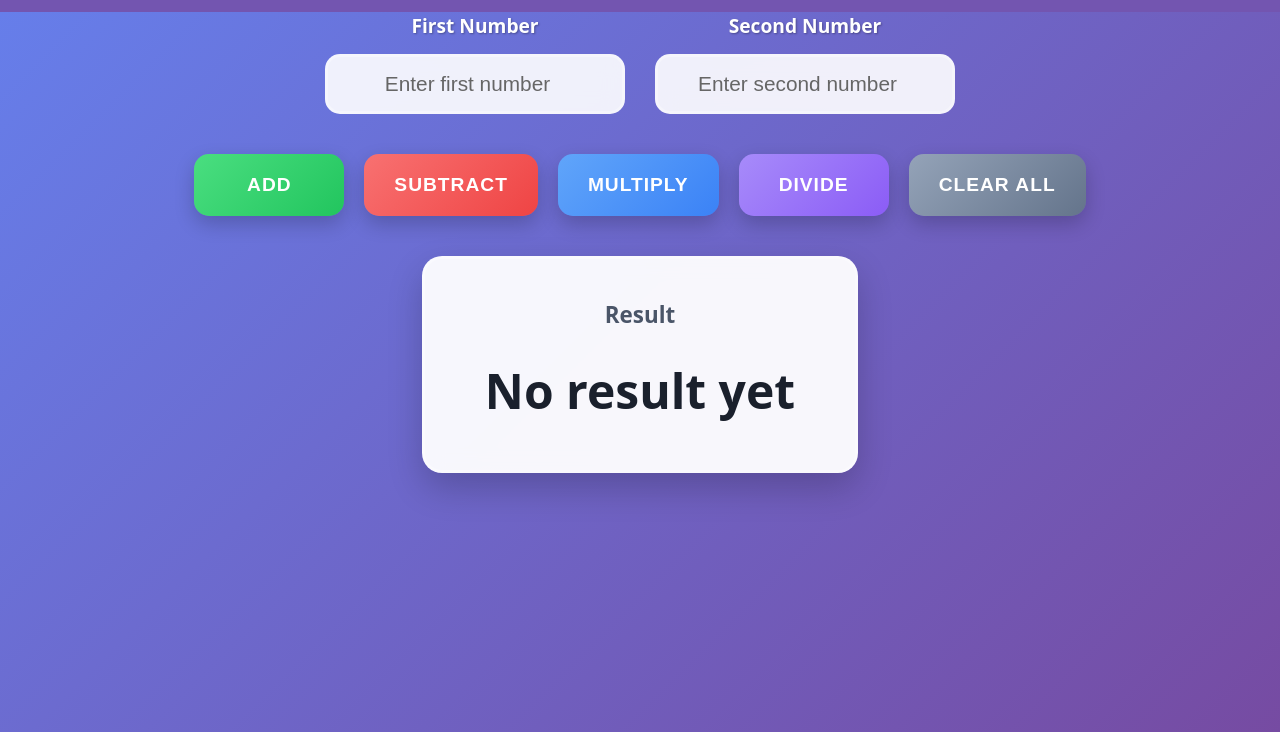
Test case: performs multiplication correctly
In the number field with placeholder "Enter first number": (475, 84) [325, 54, 625, 114], type "6"
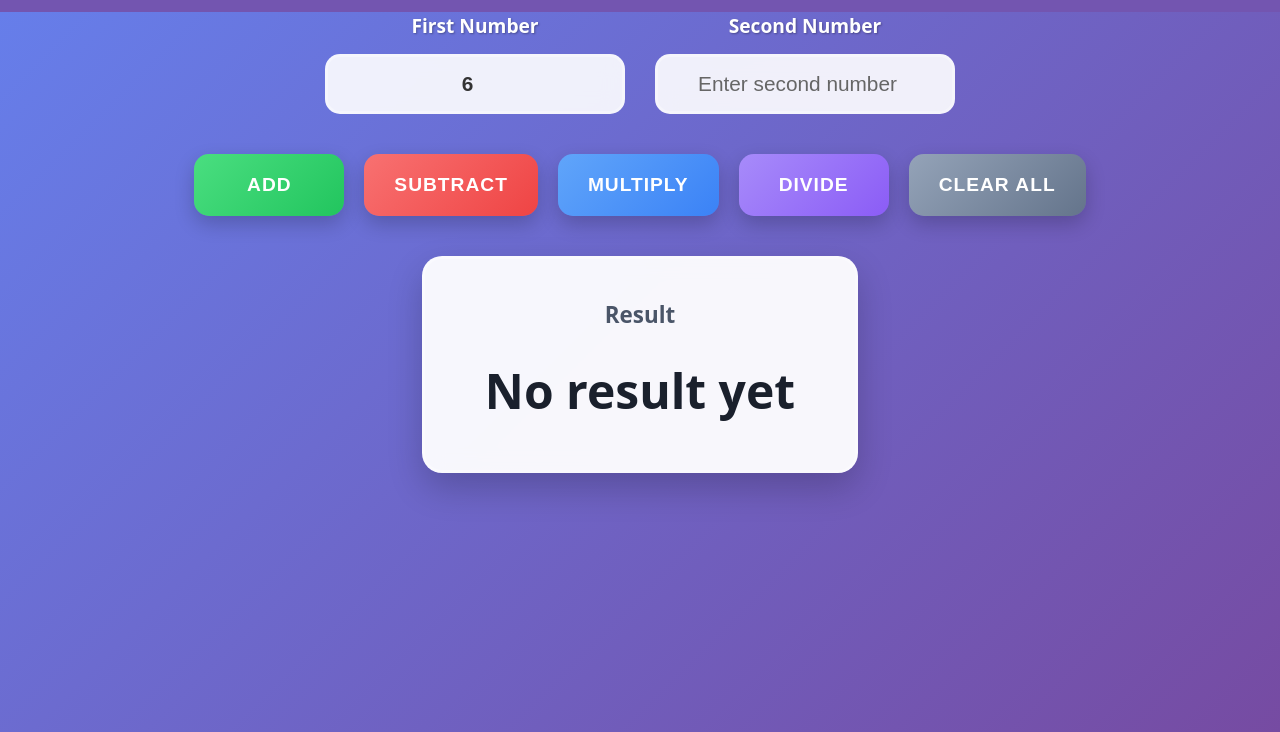
In the number field with placeholder "Enter second number": (805, 84) [655, 54, 955, 114], type "7"
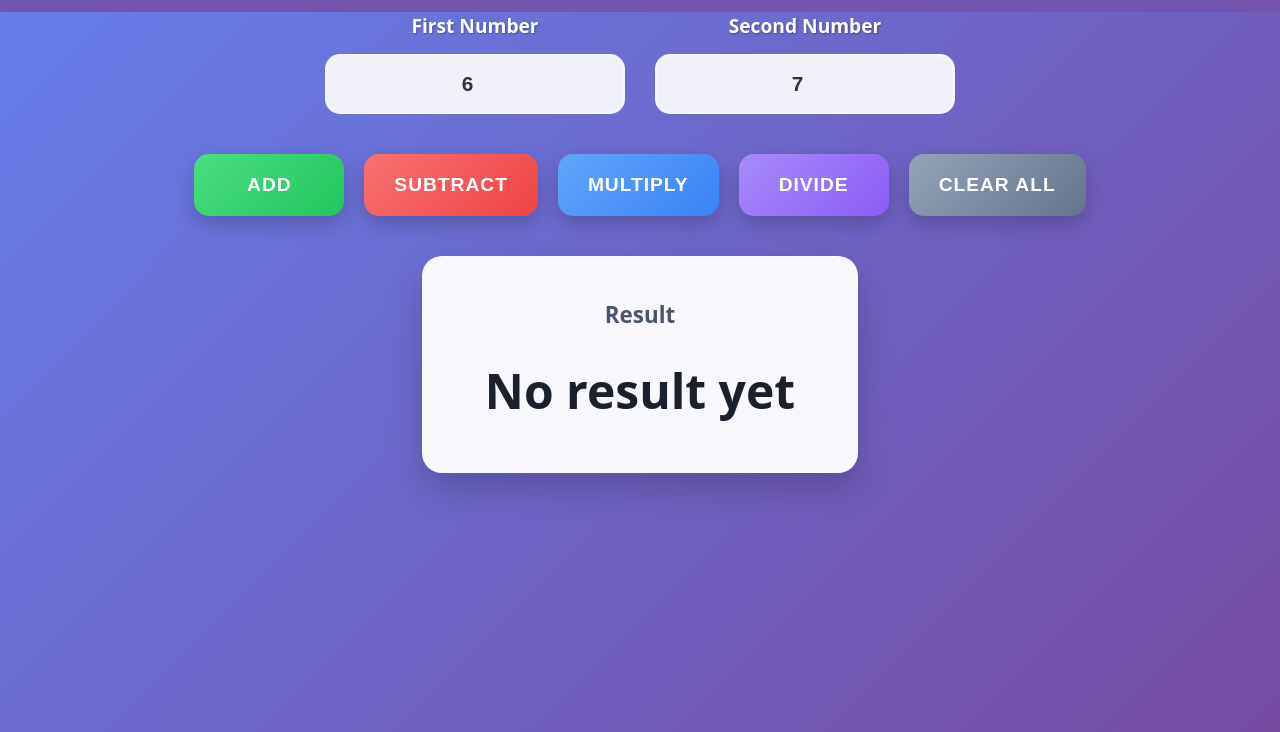
Click the button "Multiply": (638, 185) [558, 154, 719, 216]
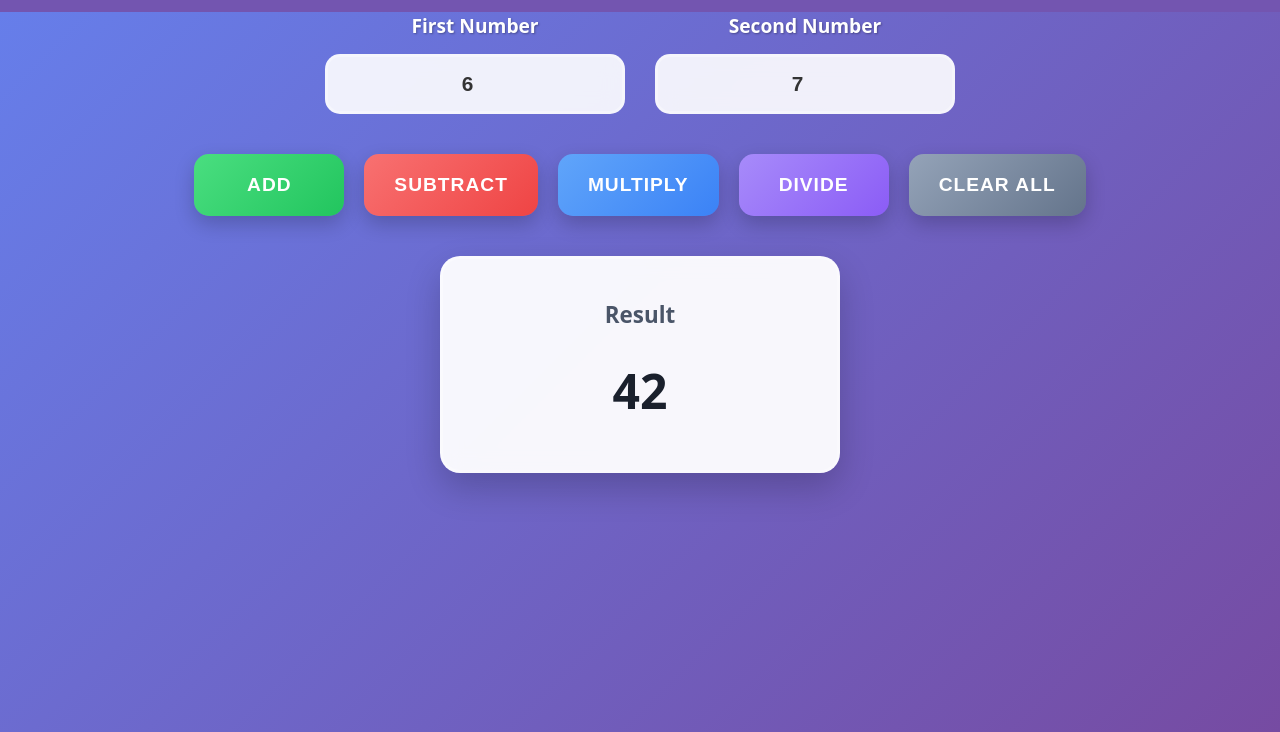
Result: the text "42" is shown at [612, 358, 667, 422]
